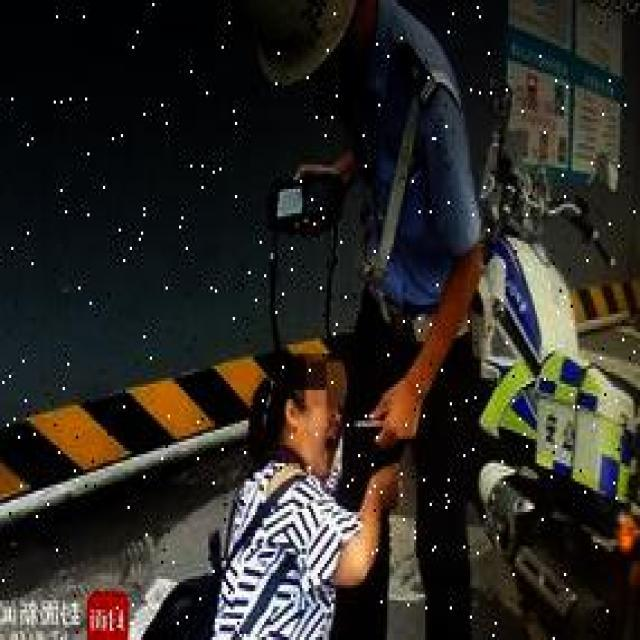fall: (197, 366, 360, 637)
